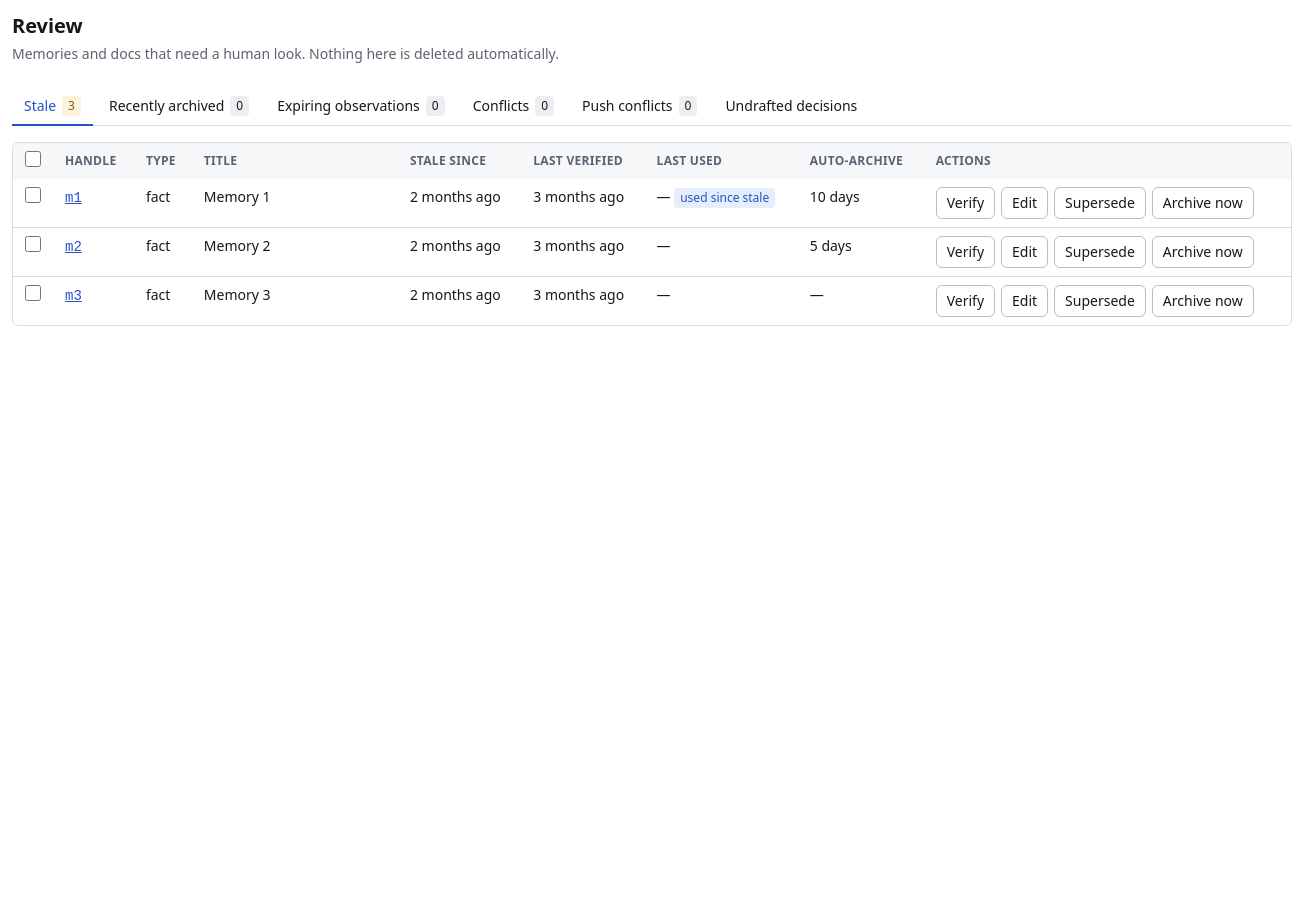
Test: ReviewPage › bulk verifies the selected rows and lists skipped ones with their reason
The image size is (1292, 912).
Expected: the text "used since stale" is shown, [674,188,775,208]
Click the checkbox named "Select m1" at coordinates (33, 195), box [25,187,41,203]
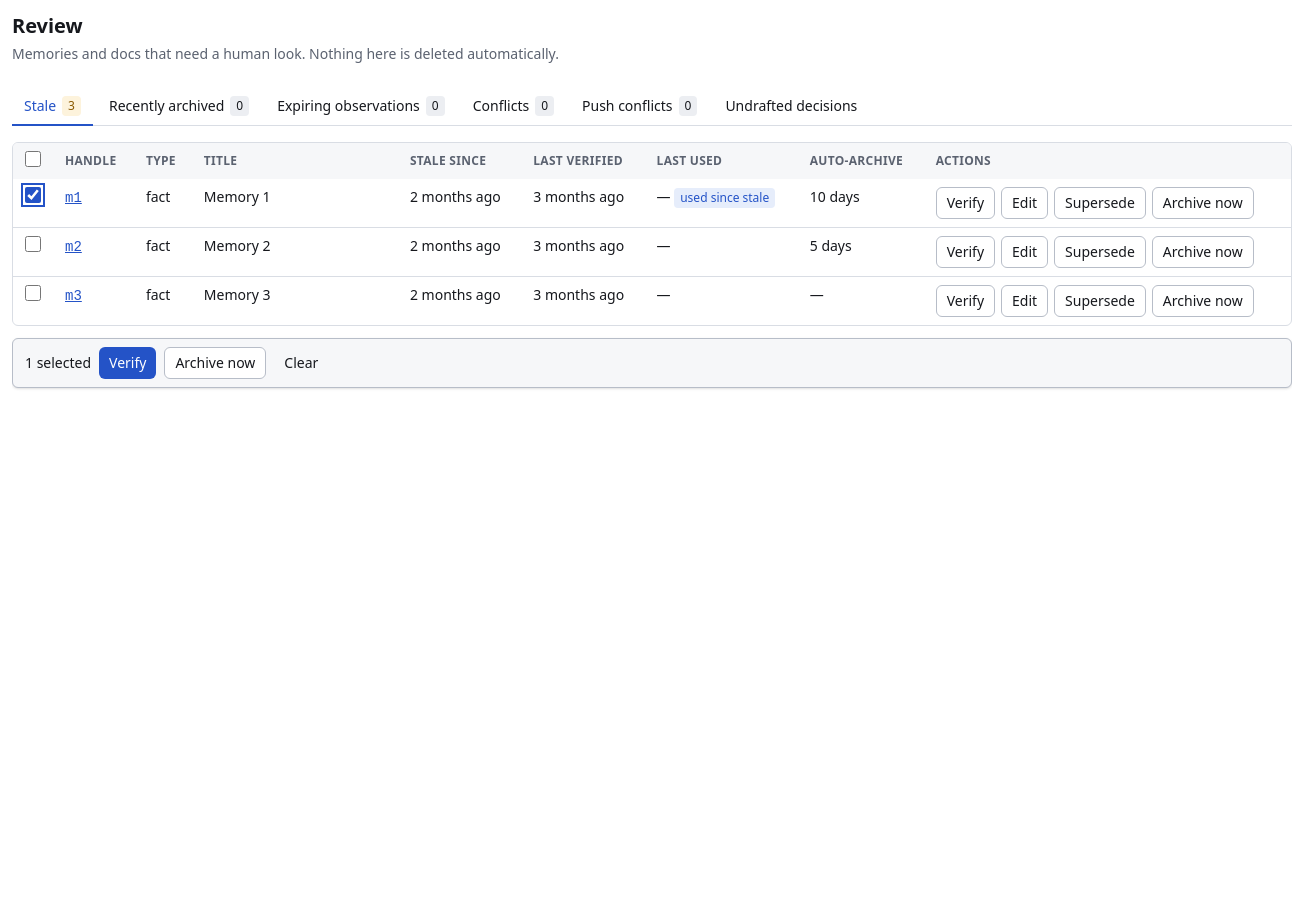
Click the checkbox named "Select m2" at coordinates (33, 244), box [25,236,41,252]
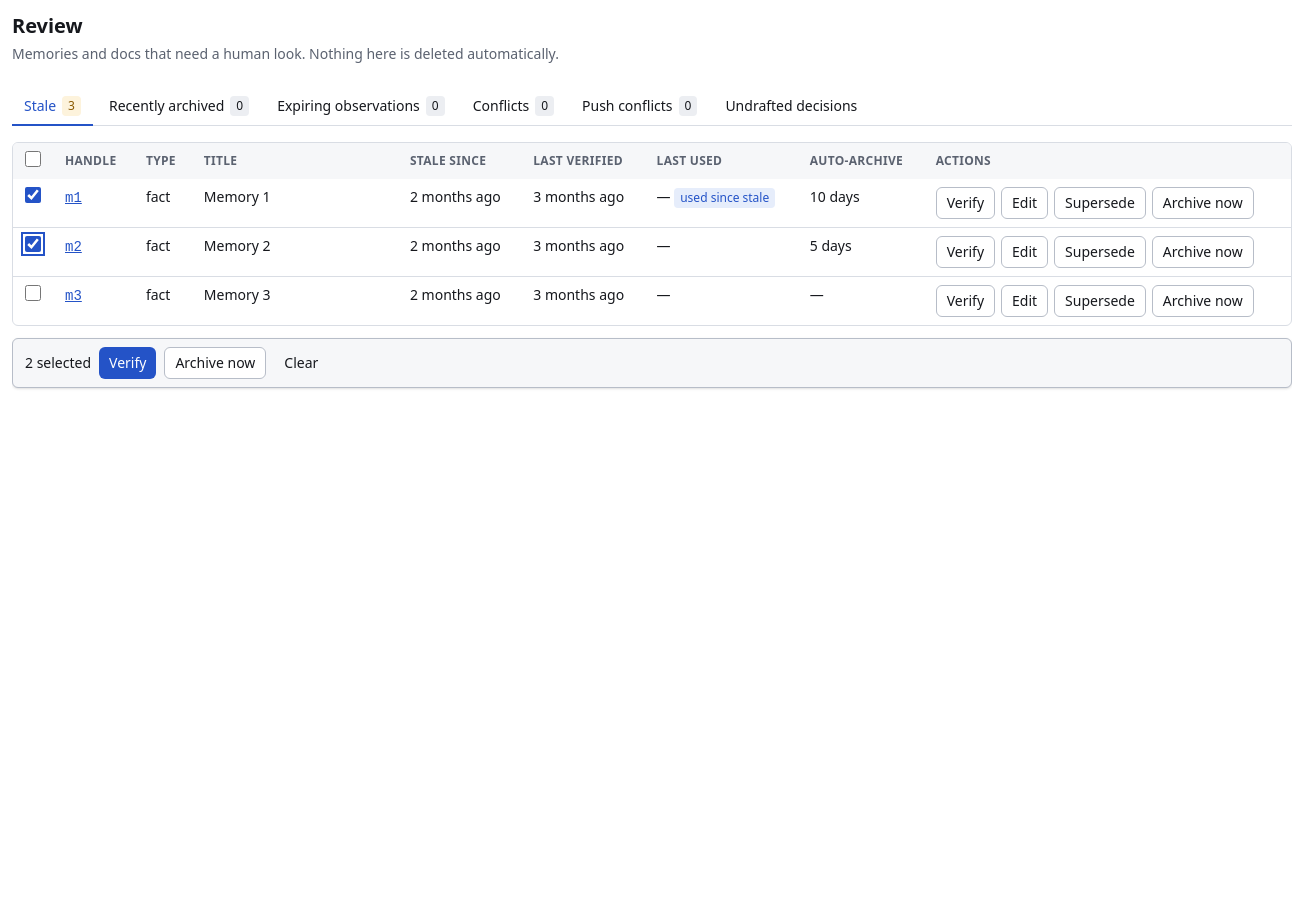
Expected: the text "2 selected" is shown, [25,353,91,373]
Click the button "Verify" next to "selected" at coordinates (128, 363), box [99,347,156,379]
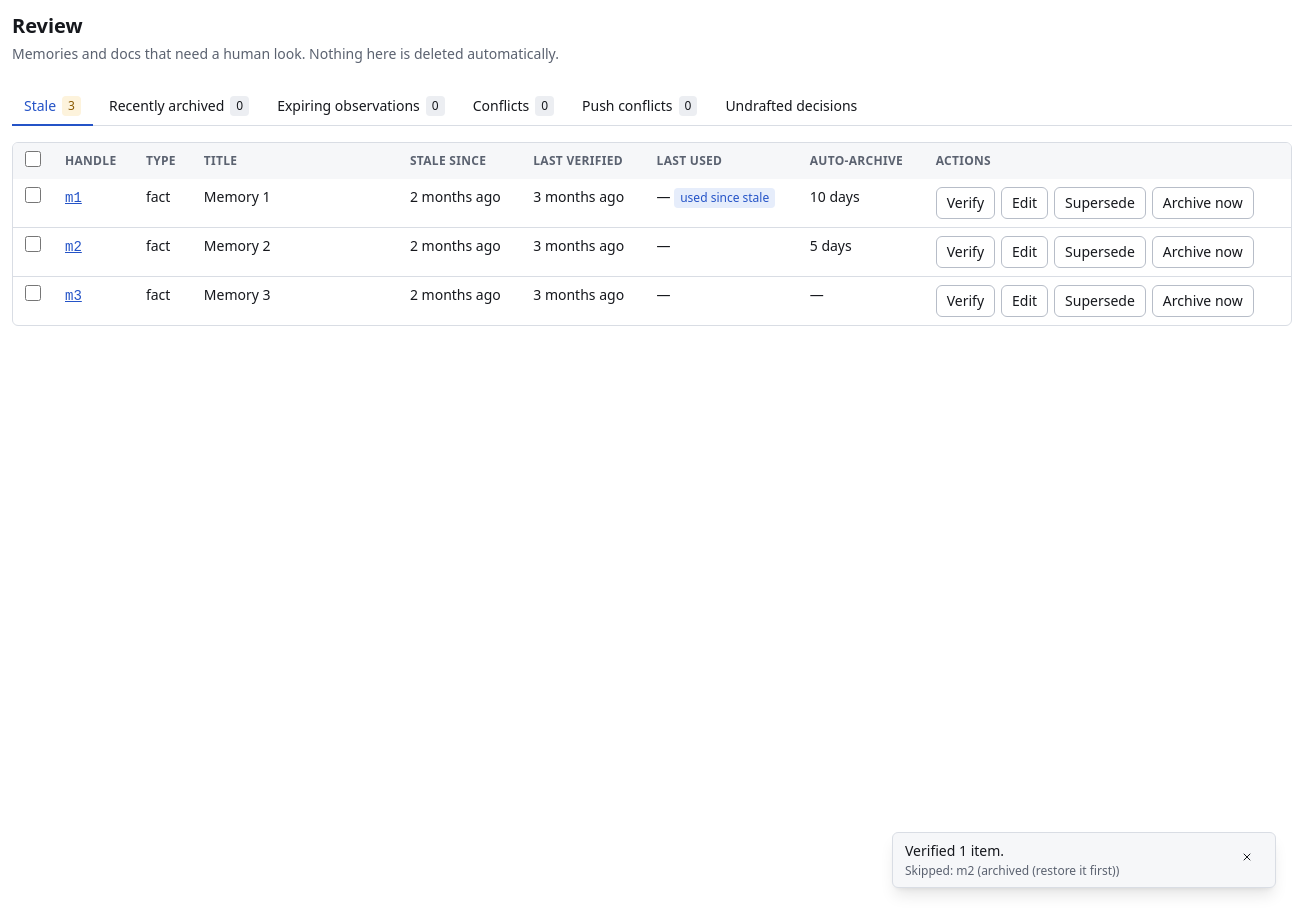
Expected: the text "Verified 1 item." is shown, [905,841,1004,860]
Expected: the text "Skipped: m2 (archived (restore it first))" is shown, [905,862,1119,879]
